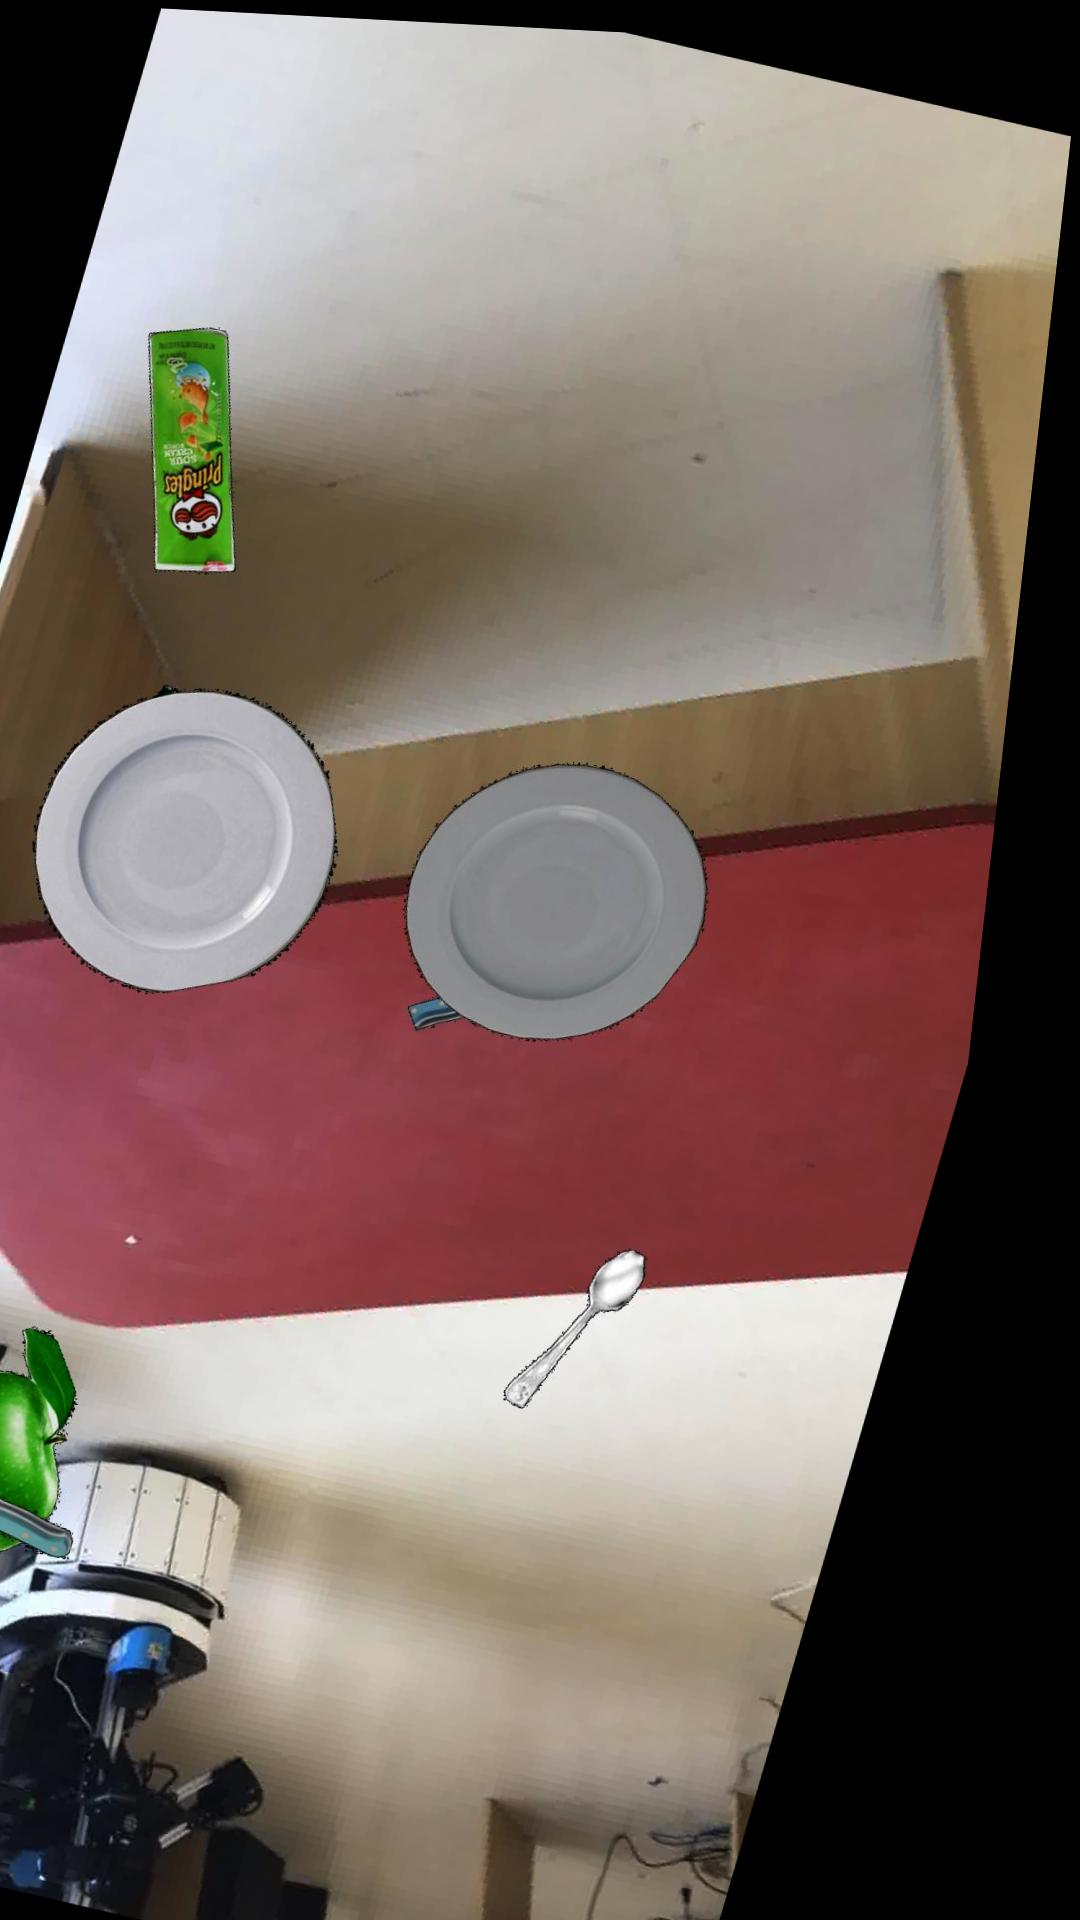green apple: (0, 1328, 108, 1520)
knife: (0, 1465, 107, 1557), (430, 993, 485, 1026)
plate: (50, 687, 356, 990), (423, 757, 725, 1034)
pringles: (154, 326, 247, 571)
sponge: (167, 684, 189, 695)
spoon: (534, 1242, 673, 1402)
